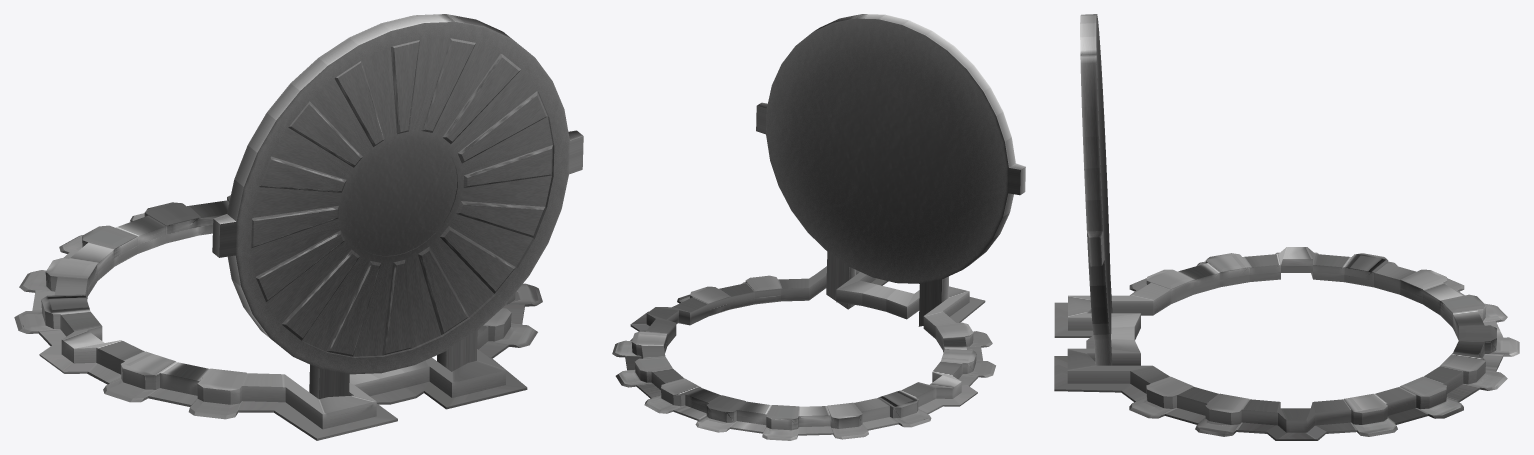
The model's file is luke.fbx.
The picture shows the model from 3 angles, left to right: view 1: azimuth 30°, elevation 25°; view 2: azimuth 150°, elevation 25°; view 3: azimuth 270°, elevation 25°; orthographic projection. The views are drawn at different scales.
Parts seen in each view (by area): view 1: Cylinder, Cylinder.001; view 2: Cylinder, Cylinder.001; view 3: Cylinder.001, Cylinder.
Part boxes in pixels (x1=…): Cylinder: x1=212, y1=14, x2=583, y2=399; Cylinder.001: x1=14, y1=195, x2=542, y2=440; Cylinder: x1=756, y1=14, x2=1025, y2=326; Cylinder.001: x1=612, y1=266, x2=995, y2=440; Cylinder.001: x1=1054, y1=247, x2=1519, y2=440; Cylinder: x1=1080, y1=14, x2=1112, y2=365.
Size of the model in its own units: 271 by 229 by 286.
